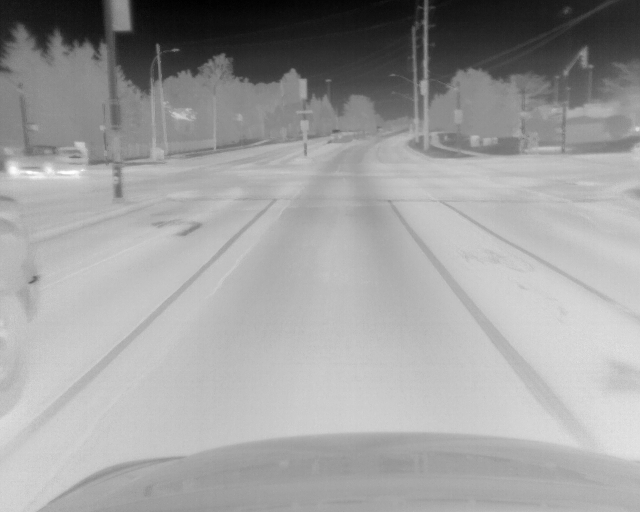car: (1, 195, 41, 420), (4, 143, 86, 180)
